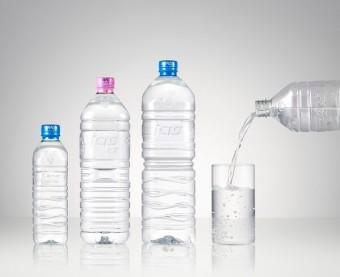bottle: (139, 60, 199, 244), (77, 78, 131, 244), (255, 80, 340, 135)
